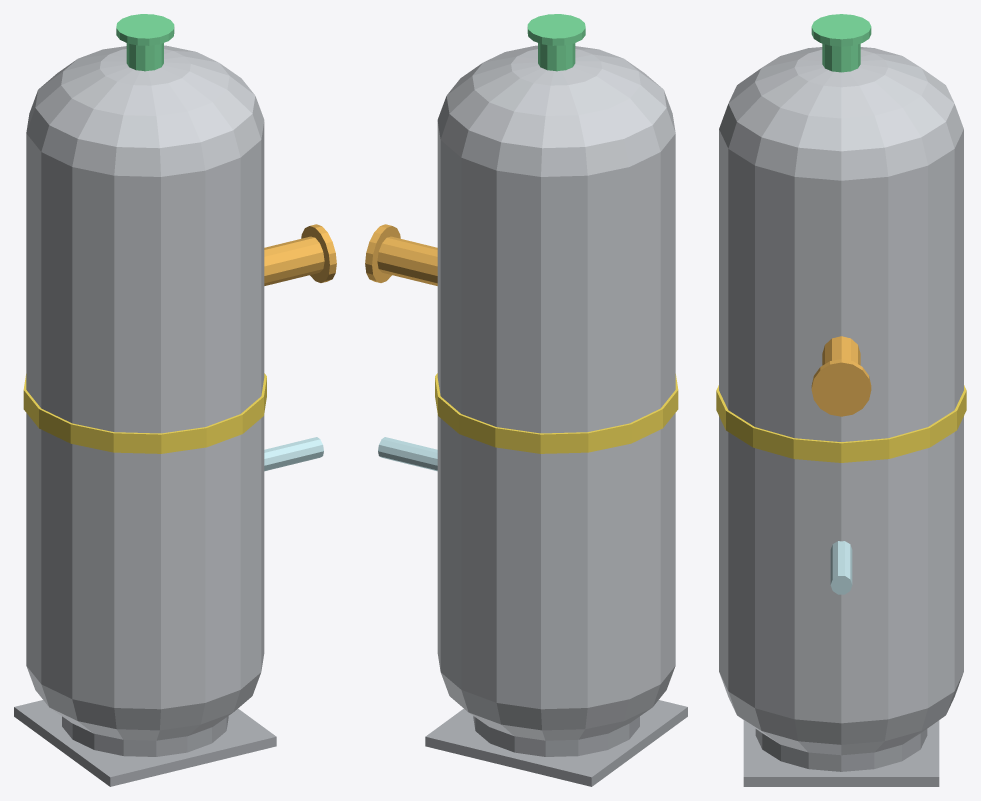
Rendered from flash separator.fbx.
3 renders of one model, left to right at view 1: azimuth 30°, elevation 25°; view 2: azimuth 150°, elevation 25°; view 3: azimuth 270°, elevation 25°, orthographic.
Parts seen in each view (by area): view 1: Separator_Shell, Separator_Cap_Top, Separator_Base, Separator_Cap_Bottom, Separator_Warning_Band, Separator_Skirt, Separator_Feed_Inlet, Separator_Vapor_Outlet_flange, Separator_Sight_Glass, Separator_Feed_Inlet_flange, Separator_Vapor_Outlet; view 2: Separator_Shell, Separator_Cap_Top, Separator_Base, Separator_Cap_Bottom, Separator_Warning_Band, Separator_Skirt, Separator_Feed_Inlet, Separator_Vapor_Outlet_flange, Separator_Sight_Glass, Separator_Feed_Inlet_flange, Separator_Vapor_Outlet; view 3: Separator_Shell, Separator_Cap_Top, Separator_Cap_Bottom, Separator_Base, Separator_Warning_Band, Separator_Skirt, Separator_Feed_Inlet_flange, Separator_Vapor_Outlet_flange, Separator_Sight_Glass, Separator_Vapor_Outlet, Separator_Feed_Inlet.
Boxes of the visible parts, bbox=[...] form: Separator_Shell: bbox=[26, 122, 264, 709]; Separator_Cap_Top: bbox=[26, 45, 264, 176]; Separator_Base: bbox=[14, 700, 276, 786]; Separator_Cap_Bottom: bbox=[26, 666, 260, 740]; Separator_Warning_Band: bbox=[23, 373, 266, 453]; Separator_Skirt: bbox=[62, 716, 228, 756]; Separator_Feed_Inlet: bbox=[264, 236, 324, 285]; Separator_Vapor_Outlet_flange: bbox=[116, 14, 174, 45]; Separator_Sight_Glass: bbox=[264, 437, 323, 471]; Separator_Feed_Inlet_flange: bbox=[301, 224, 336, 282]; Separator_Vapor_Outlet: bbox=[126, 43, 163, 71]; Separator_Shell: bbox=[437, 122, 675, 709]; Separator_Cap_Top: bbox=[437, 45, 675, 176]; Separator_Base: bbox=[425, 700, 687, 786]; Separator_Cap_Bottom: bbox=[441, 666, 675, 740]; Separator_Warning_Band: bbox=[435, 373, 678, 453]; Separator_Skirt: bbox=[473, 716, 639, 756]; Separator_Feed_Inlet: bbox=[377, 236, 437, 285]; Separator_Vapor_Outlet_flange: bbox=[527, 14, 585, 45]; Separator_Sight_Glass: bbox=[378, 437, 437, 471]; Separator_Feed_Inlet_flange: bbox=[365, 224, 400, 282]; Separator_Vapor_Outlet: bbox=[538, 43, 575, 71]; Separator_Shell: bbox=[719, 129, 963, 723]; Separator_Cap_Top: bbox=[719, 47, 963, 180]; Separator_Cap_Bottom: bbox=[720, 674, 962, 755]; Separator_Base: bbox=[743, 720, 939, 786]; Separator_Warning_Band: bbox=[716, 385, 966, 462]; Separator_Skirt: bbox=[755, 729, 927, 771]; Separator_Feed_Inlet_flange: bbox=[811, 359, 871, 416]; Separator_Vapor_Outlet_flange: bbox=[811, 14, 871, 46]; Separator_Sight_Glass: bbox=[830, 541, 852, 594]; Separator_Vapor_Outlet: bbox=[822, 43, 860, 72]; Separator_Feed_Inlet: bbox=[822, 336, 860, 365].
Size of the model in its own units: 123 by 301 by 92.
